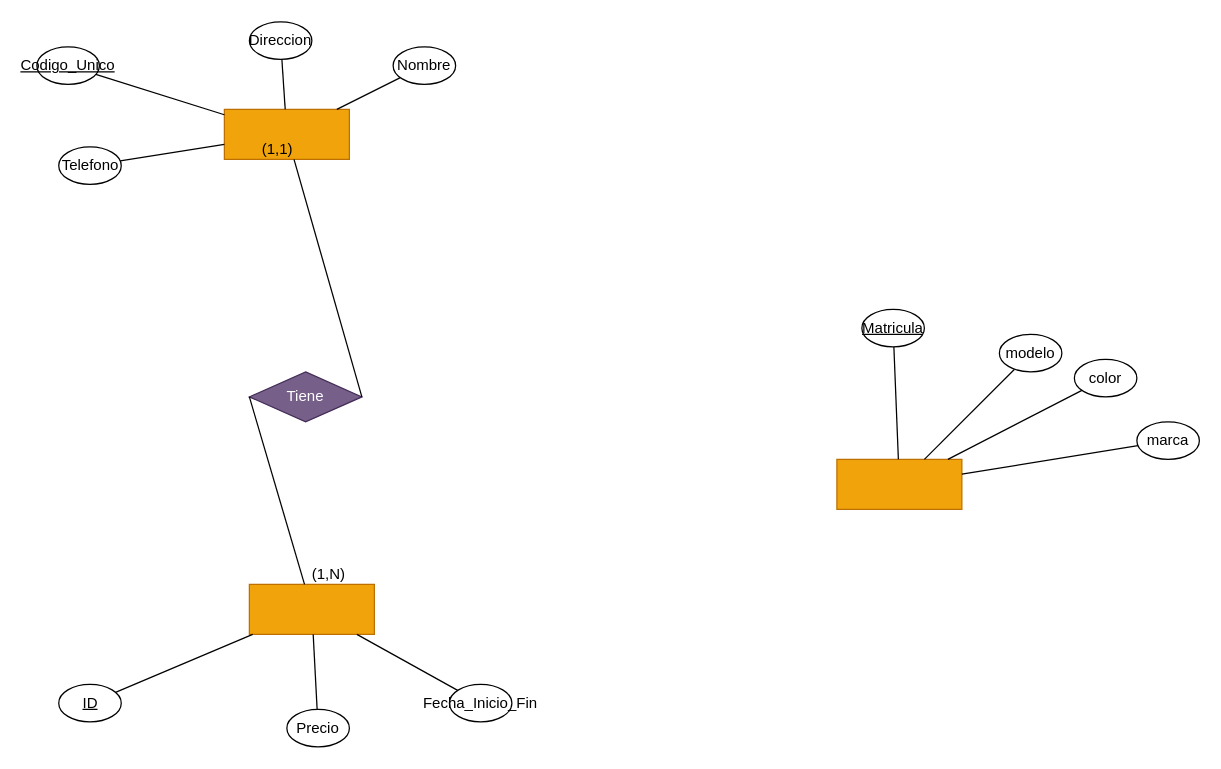
The diagram is 1221 pixels wide and 769 high, and some of its shapes have lost their labels. The shapes that lost their labels are listed below. From the top down, each one's centre as x and y in pixels, then its label:
At (x=286, y=133): "Cliente".
At (x=899, y=483): "Coche".
At (x=311, y=608): "Reserva".
